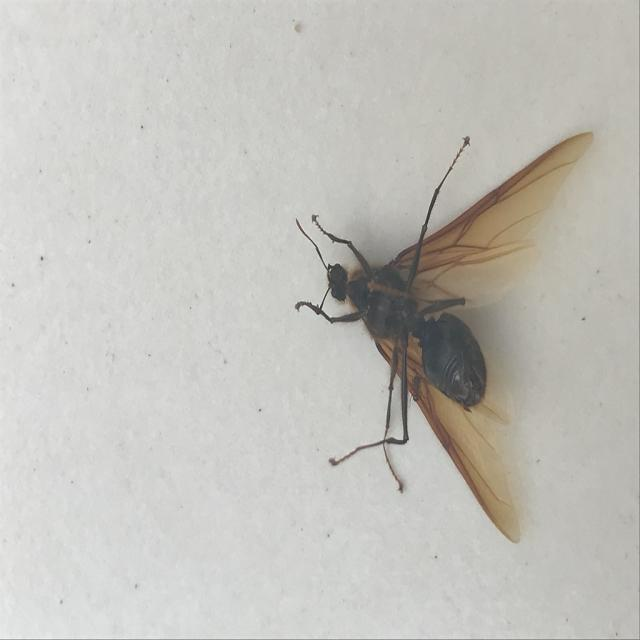Dead-Male-Alate: (294, 131, 594, 544)
